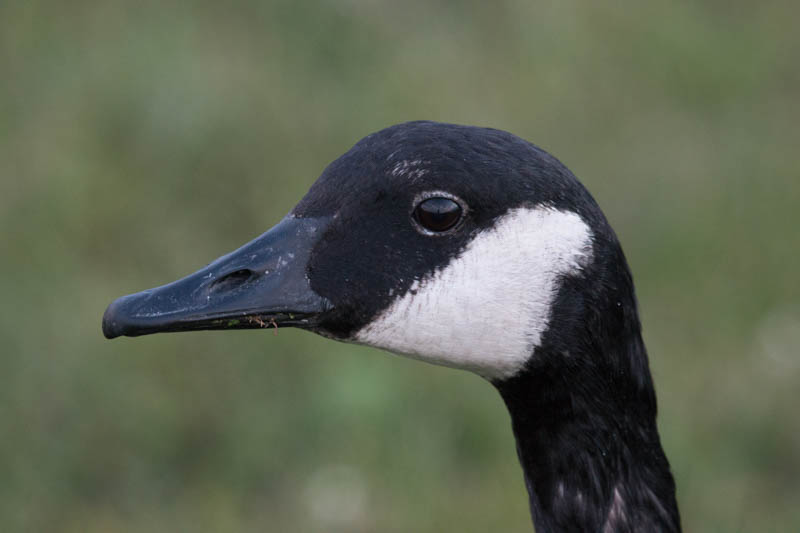goose-head: (102, 120, 626, 387)
